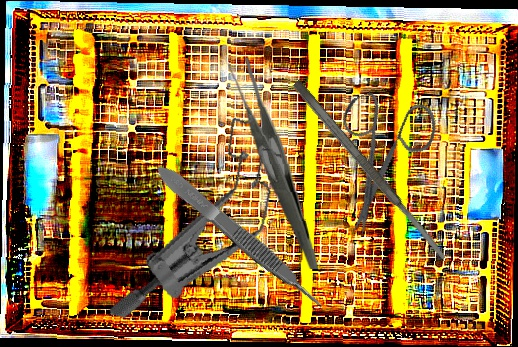Dressing Forceps: (226, 56, 319, 272)
Iris Scissors: (306, 73, 465, 238)
Spatula Surgical: (291, 78, 449, 263)
Speculum: (105, 92, 295, 346)
Tissue Forceps: (151, 158, 330, 318)
